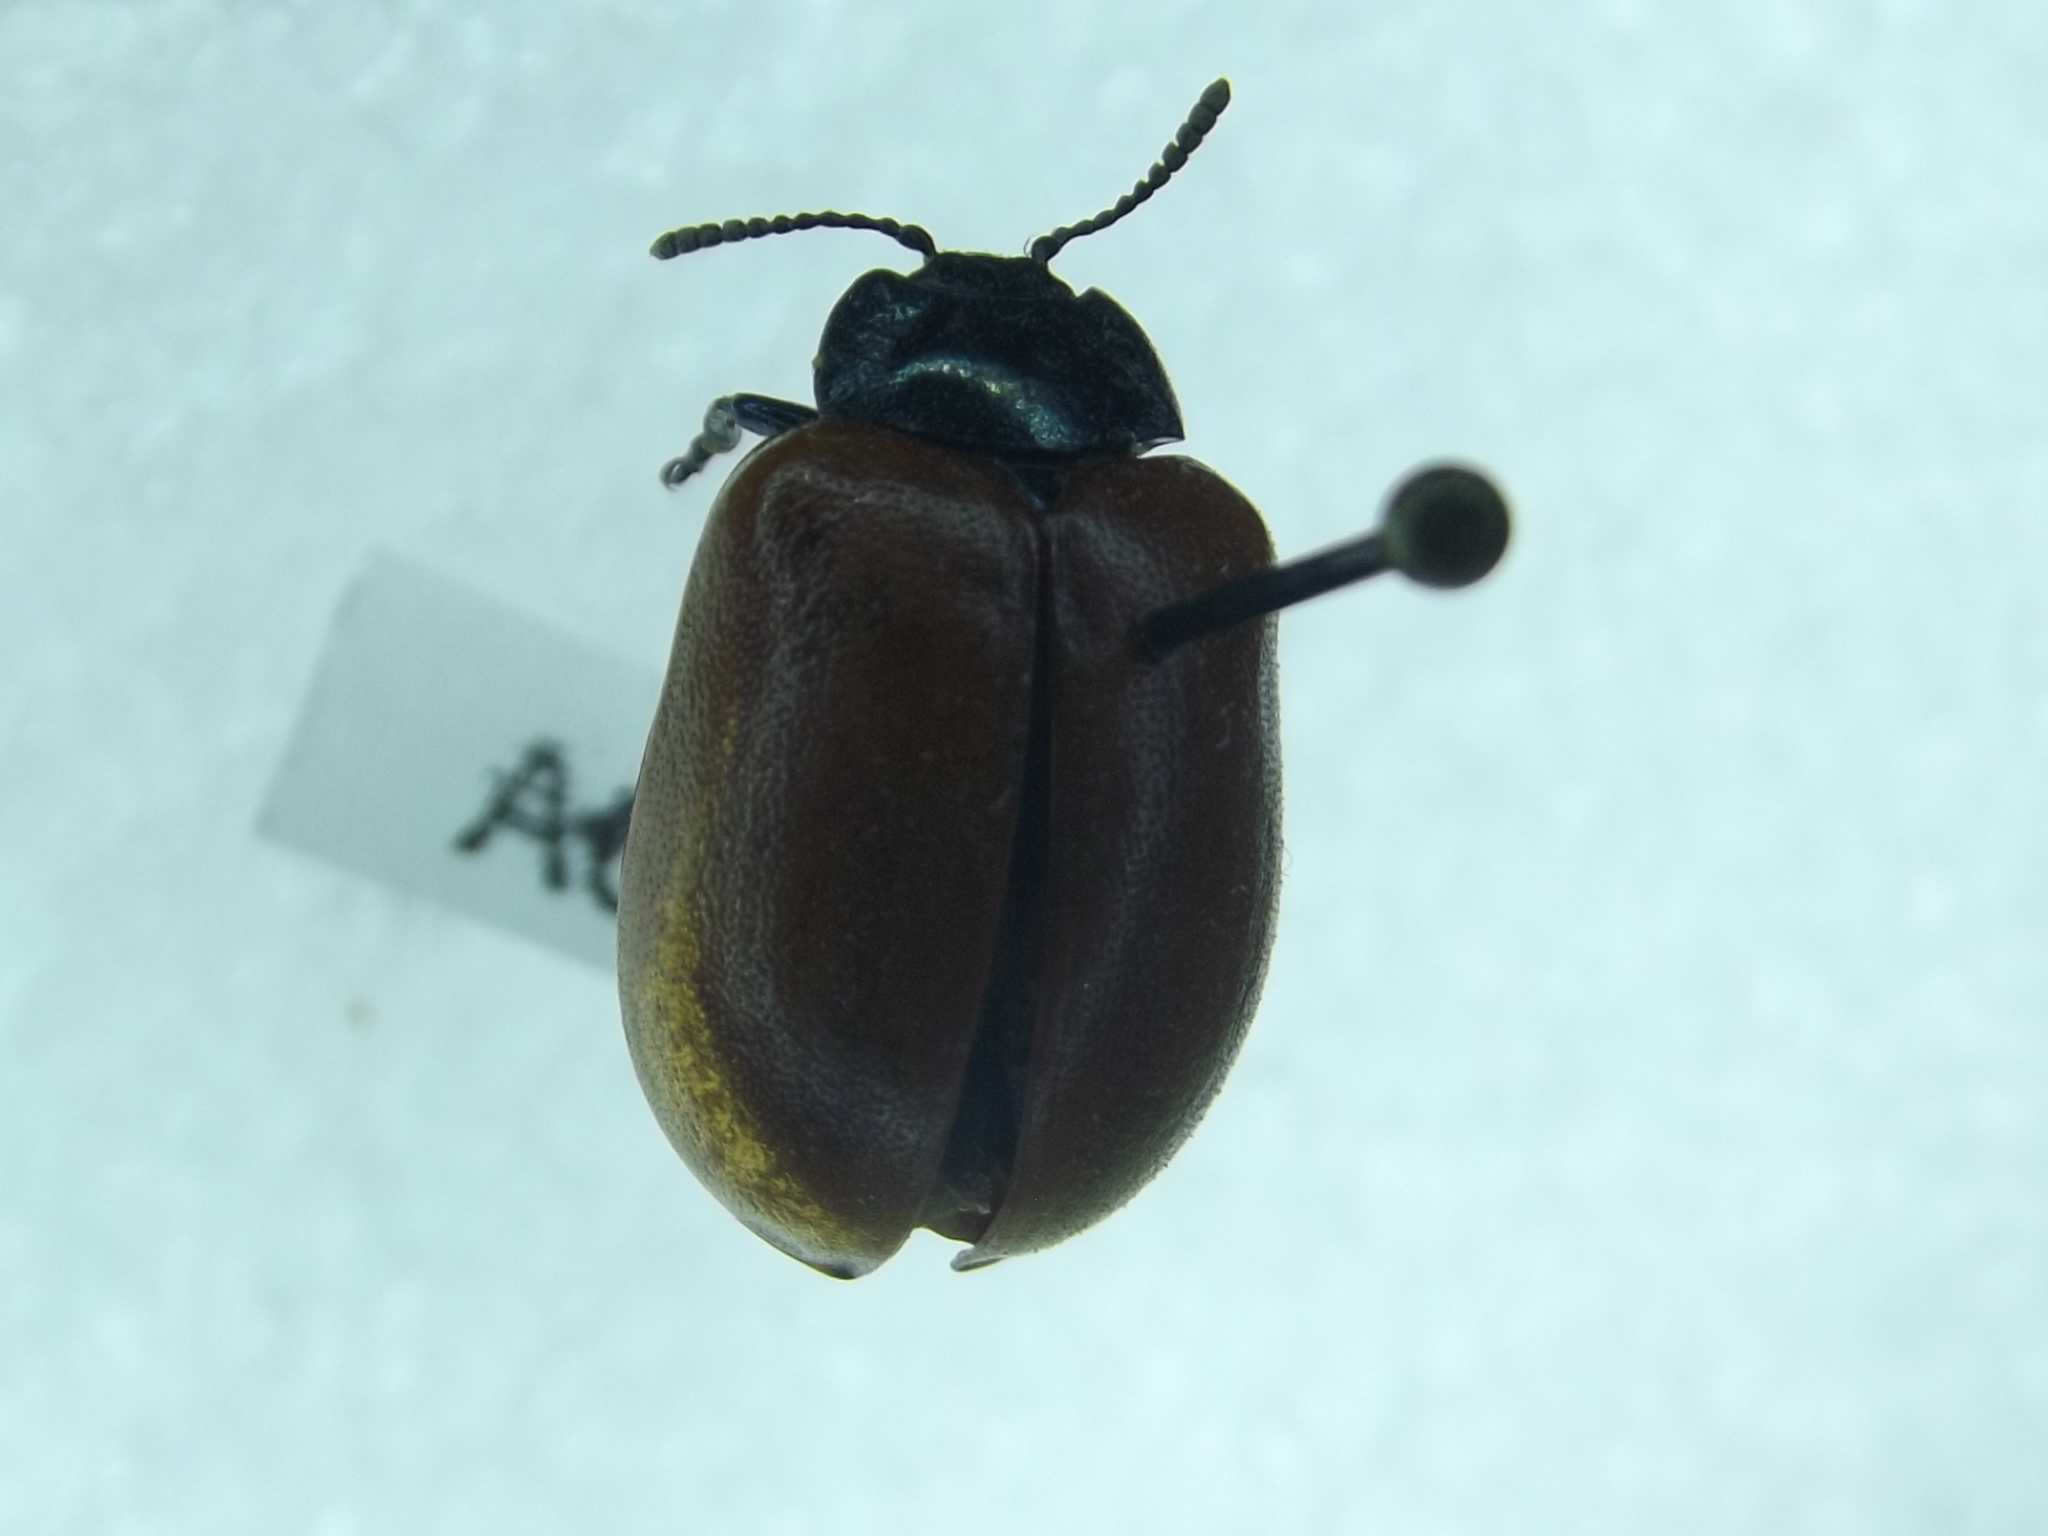Chrysomela_populi: (590, 60, 1314, 1292)
